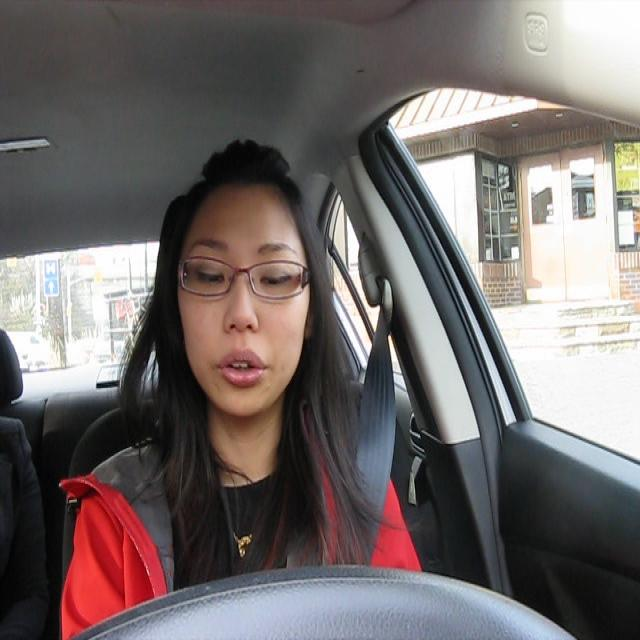sem_oculos: (155, 228, 347, 324)
